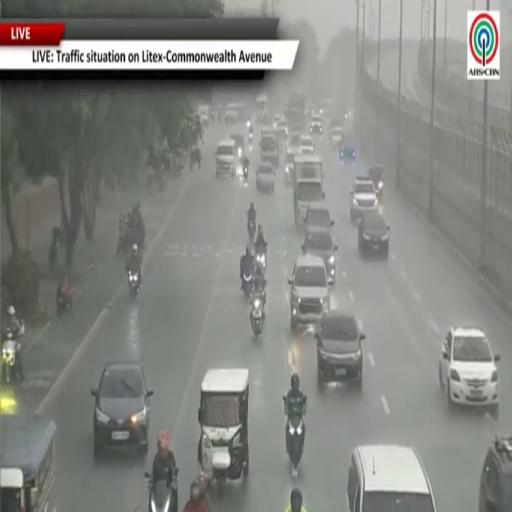car: (347, 445, 436, 511), (91, 361, 152, 454), (439, 327, 500, 413), (316, 311, 365, 386), (289, 254, 330, 330), (478, 438, 511, 511), (302, 226, 338, 283), (358, 211, 389, 258), (350, 176, 378, 221), (305, 201, 334, 229), (215, 139, 236, 177), (256, 162, 275, 193), (369, 165, 383, 203), (285, 148, 299, 184), (339, 141, 356, 164), (231, 134, 244, 157), (310, 115, 324, 136), (330, 126, 343, 148), (300, 136, 315, 154), (274, 118, 287, 138), (198, 105, 211, 125), (287, 133, 300, 151), (320, 99, 333, 117), (224, 110, 239, 123), (273, 115, 285, 129)
motorcycle: (287, 397, 306, 477), (145, 469, 178, 511), (2, 324, 24, 383), (250, 292, 264, 338), (56, 285, 74, 317), (128, 270, 140, 297), (242, 269, 253, 298), (256, 248, 266, 273), (248, 219, 255, 241), (243, 166, 248, 180), (249, 132, 253, 143), (211, 110, 214, 121)
truck: (0, 413, 56, 511), (294, 155, 324, 226), (286, 92, 306, 132), (260, 128, 279, 168), (256, 94, 267, 122)
